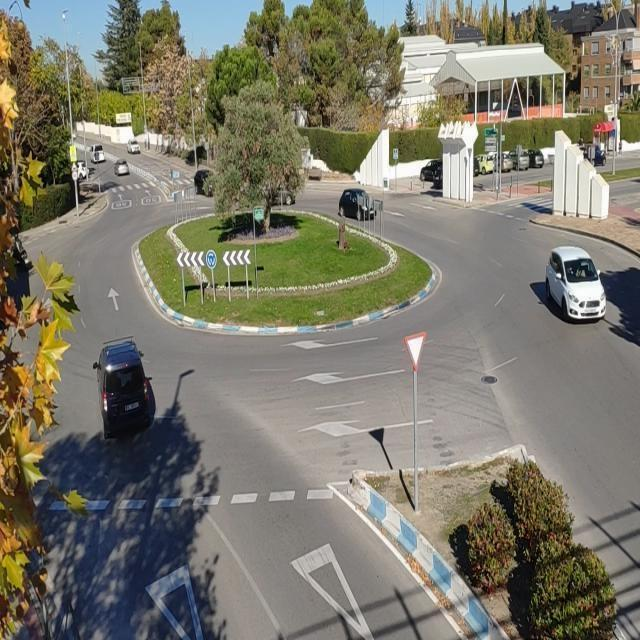Car: (339, 188, 378, 221), (114, 158, 130, 178)
Van: (92, 338, 153, 434), (548, 246, 604, 322)
